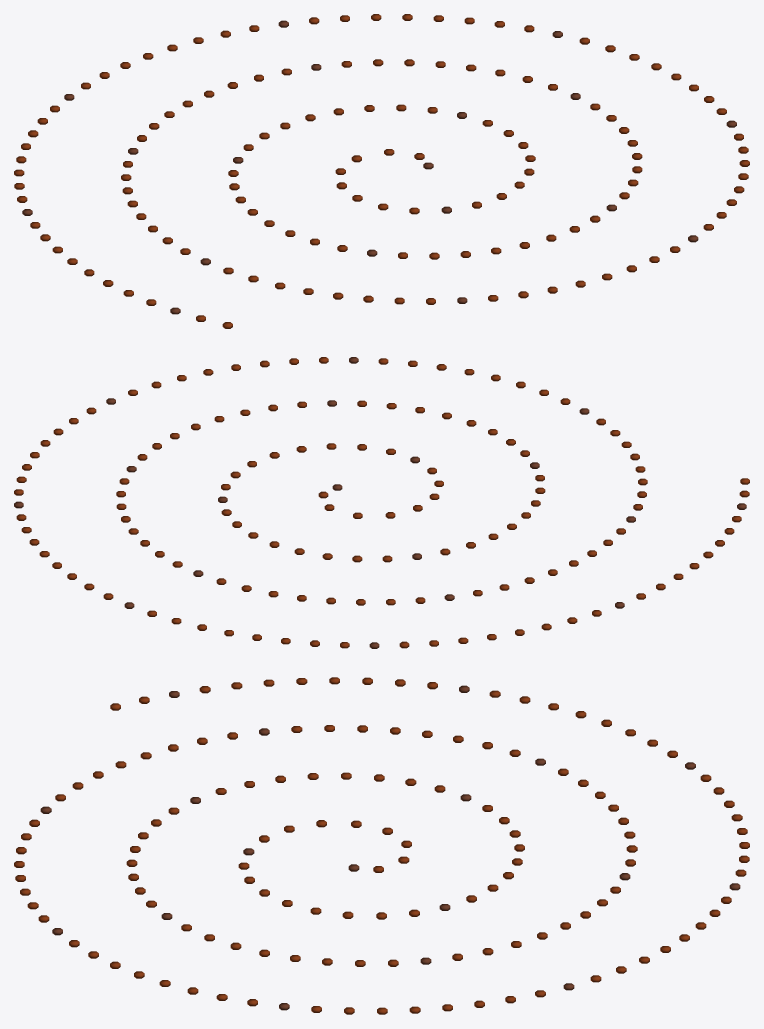
Rendered from nail_spiral.glb.
The picture shows the model from 3 angles, top to bottom: view 1: azimuth 30°, elevation 25°; view 2: azimuth 150°, elevation 25°; view 3: azimuth 270°, elevation 25°; orthographic projection. The views are drawn at different scales.
Visible parts, largest first — view 1: nail_spiral; view 2: nail_spiral; view 3: nail_spiral.
Part boxes in pixels (x1,y1,x2,y2): nail_spiral: (14, 14, 749, 328); nail_spiral: (14, 357, 749, 648); nail_spiral: (14, 677, 749, 1014).
Bounding box in the file's own units: 2.65 × 0.012 × 2.47.
